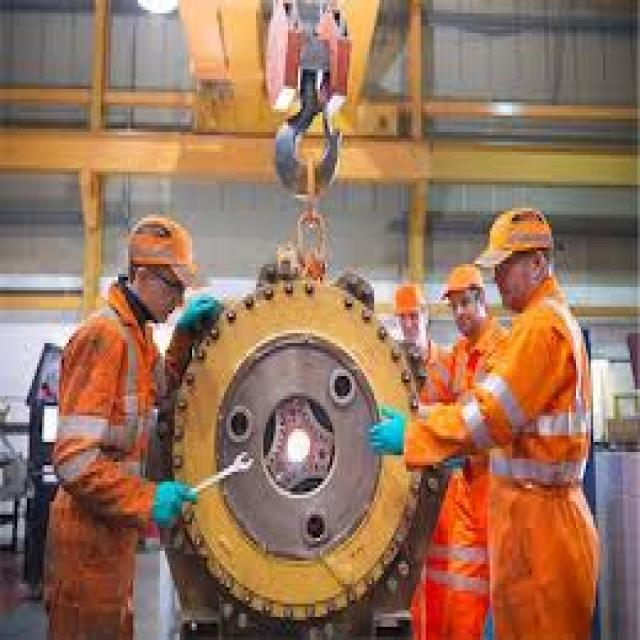Reflective-Jacket: (37, 297, 170, 584), (478, 297, 598, 511), (416, 317, 510, 475)
Safety-Helmet: (113, 204, 207, 290), (478, 198, 561, 277), (438, 254, 490, 310)
